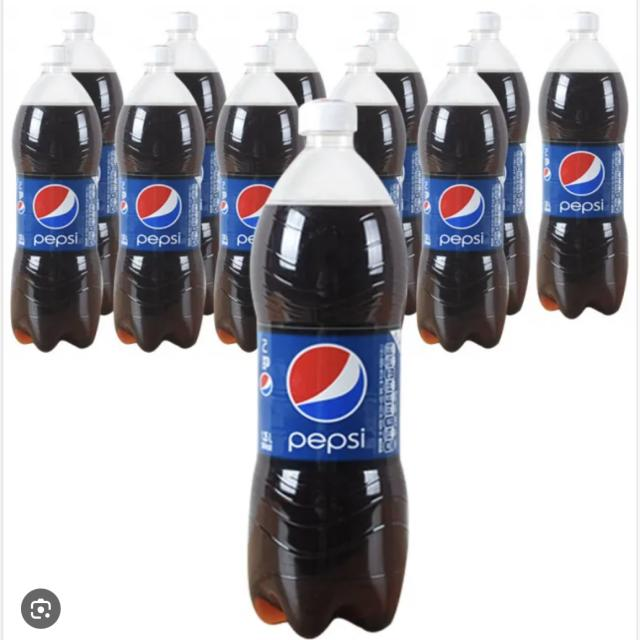recyclable: (239, 75, 426, 640), (106, 39, 216, 362), (412, 40, 520, 367), (11, 40, 111, 358), (535, 9, 631, 326)
